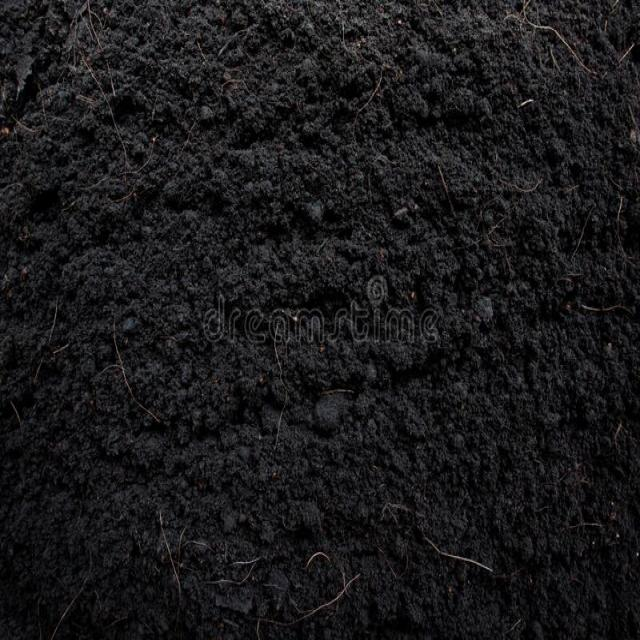Black Soil: (46, 68, 564, 510)
